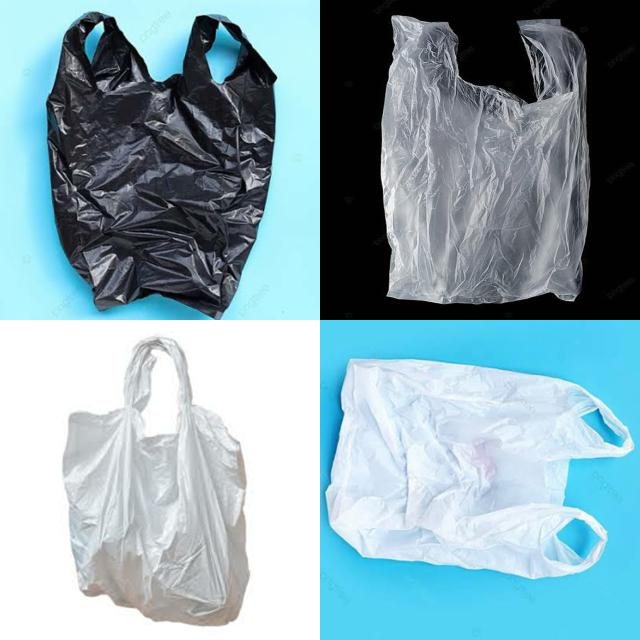Single-layer Plastic: (46, 12, 276, 318), (326, 359, 634, 579), (381, 16, 590, 304), (64, 338, 249, 625)
